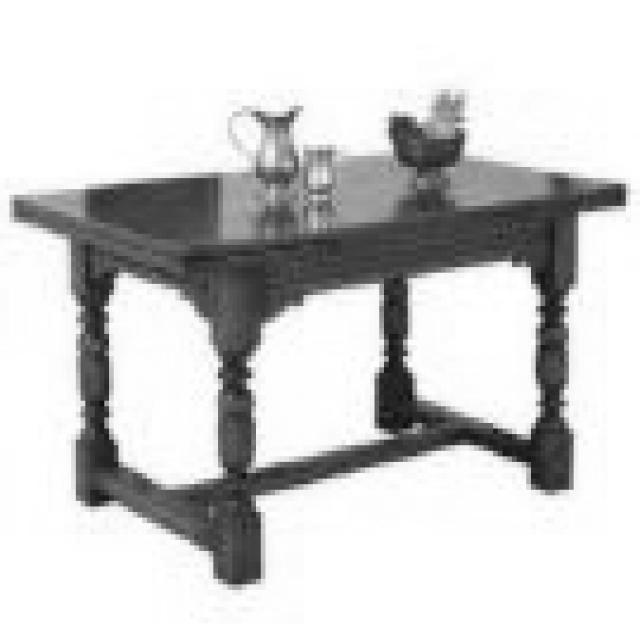table: (8, 140, 626, 584)
